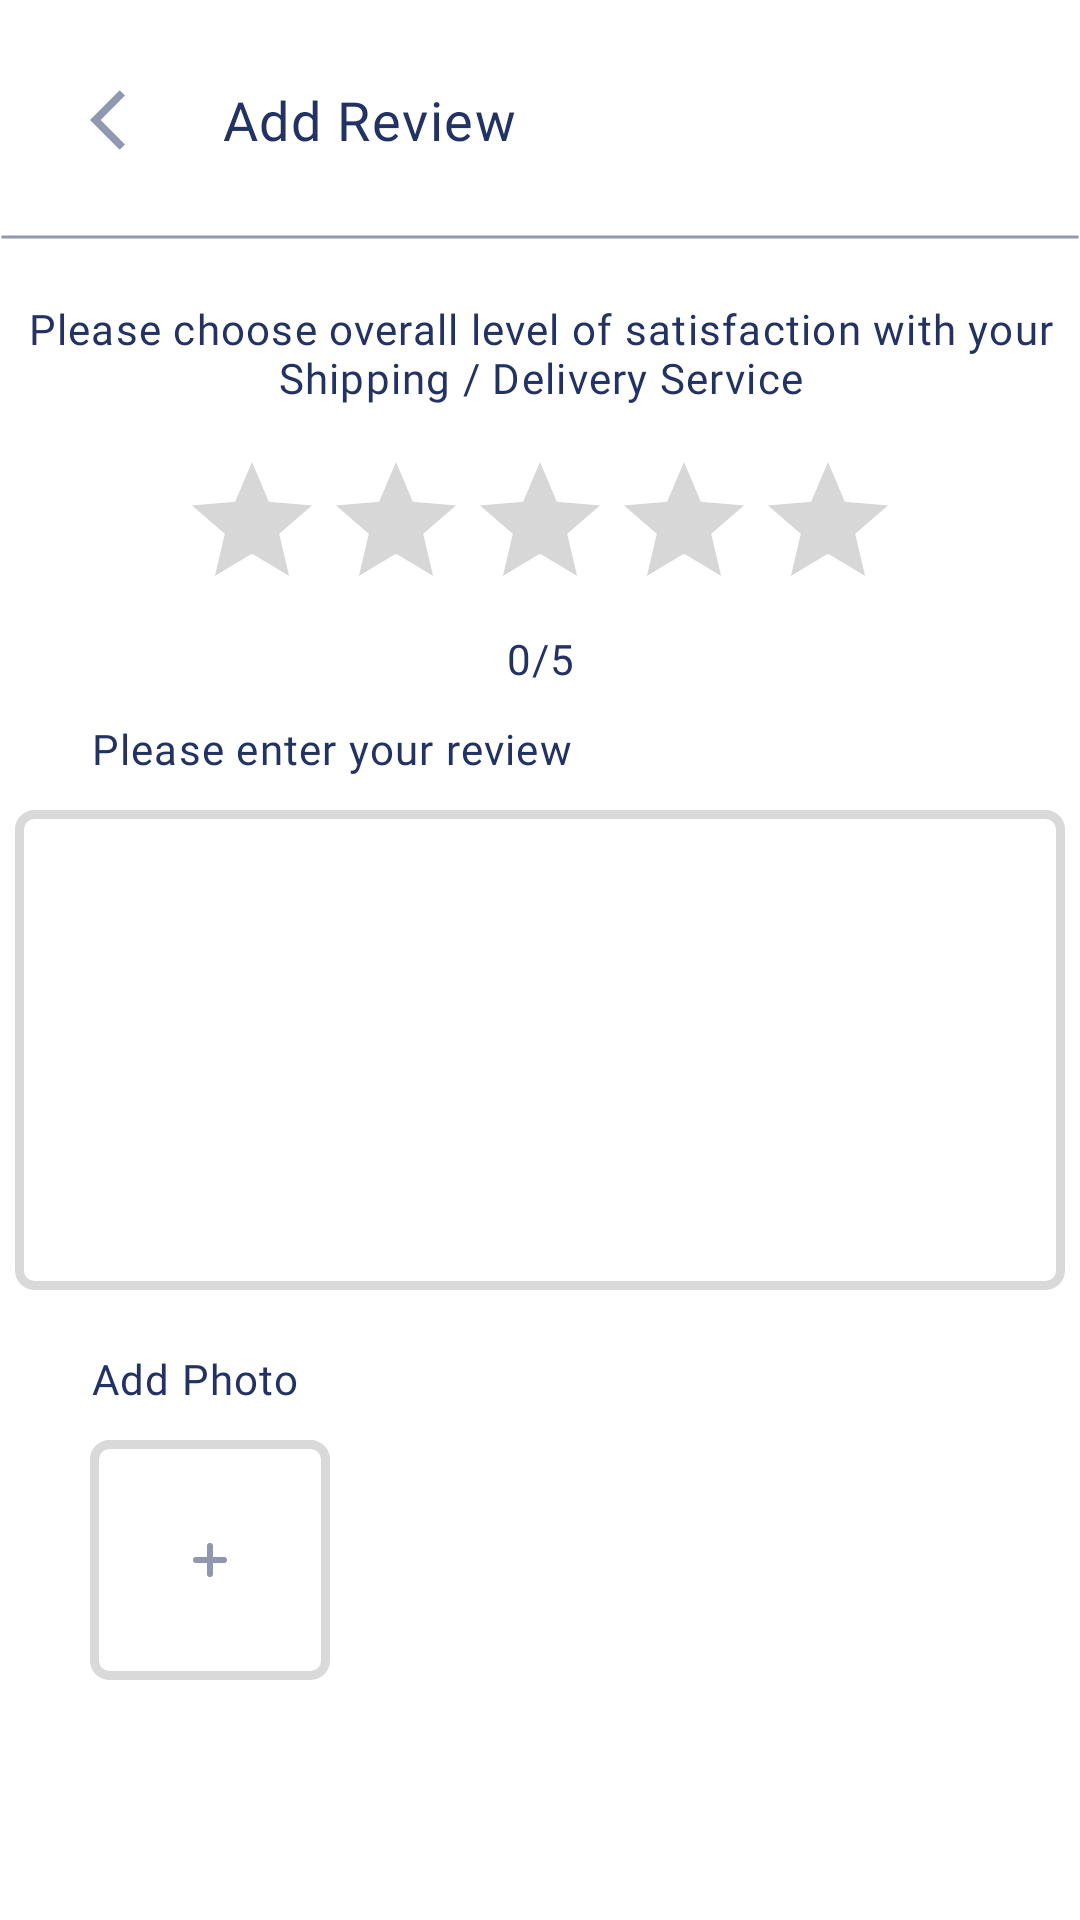

Icon bounding boxes for this 1080px x 1920px phone screenshot, format (x1, y1, x2, y2):
back: (90, 90, 125, 150)
plus: (90, 1440, 330, 1680)
